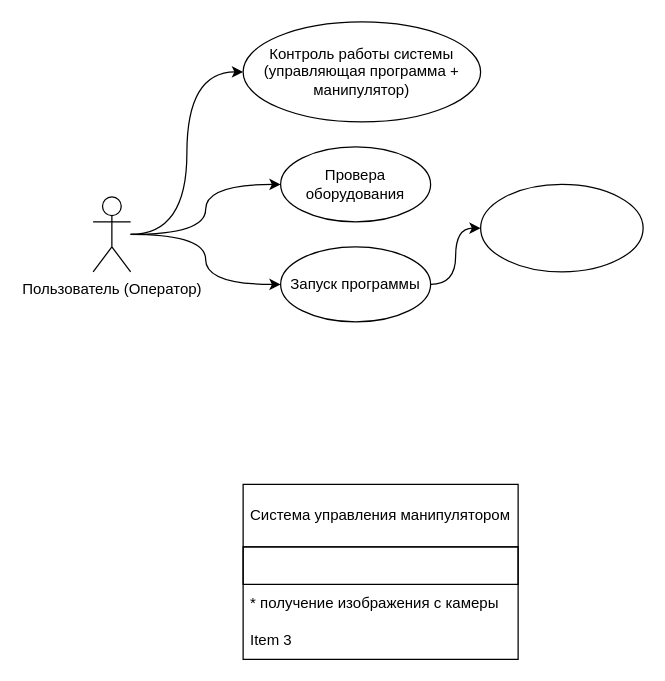
Some shapes in this 665 by 681 pixel diagram are drawn without their labels. The centre of each missing label's shape, as x and y in pixels:
"- набор алгоритмов действий" belongs at (x=380, y=565).
"Выбор нужного алгоритма работы манипулятора" belongs at (x=561, y=227).
